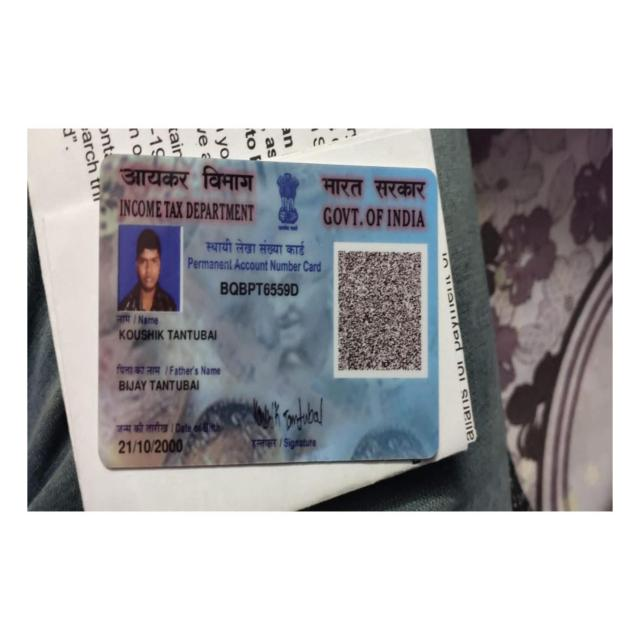pan_card: (103, 157, 436, 470)
